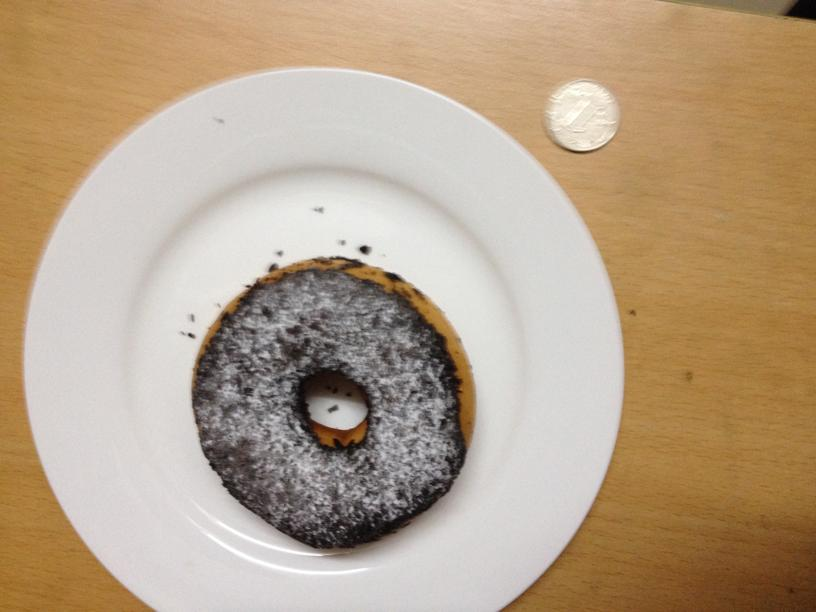coin: (544, 80, 622, 153)
doughnut: (196, 257, 476, 550)
